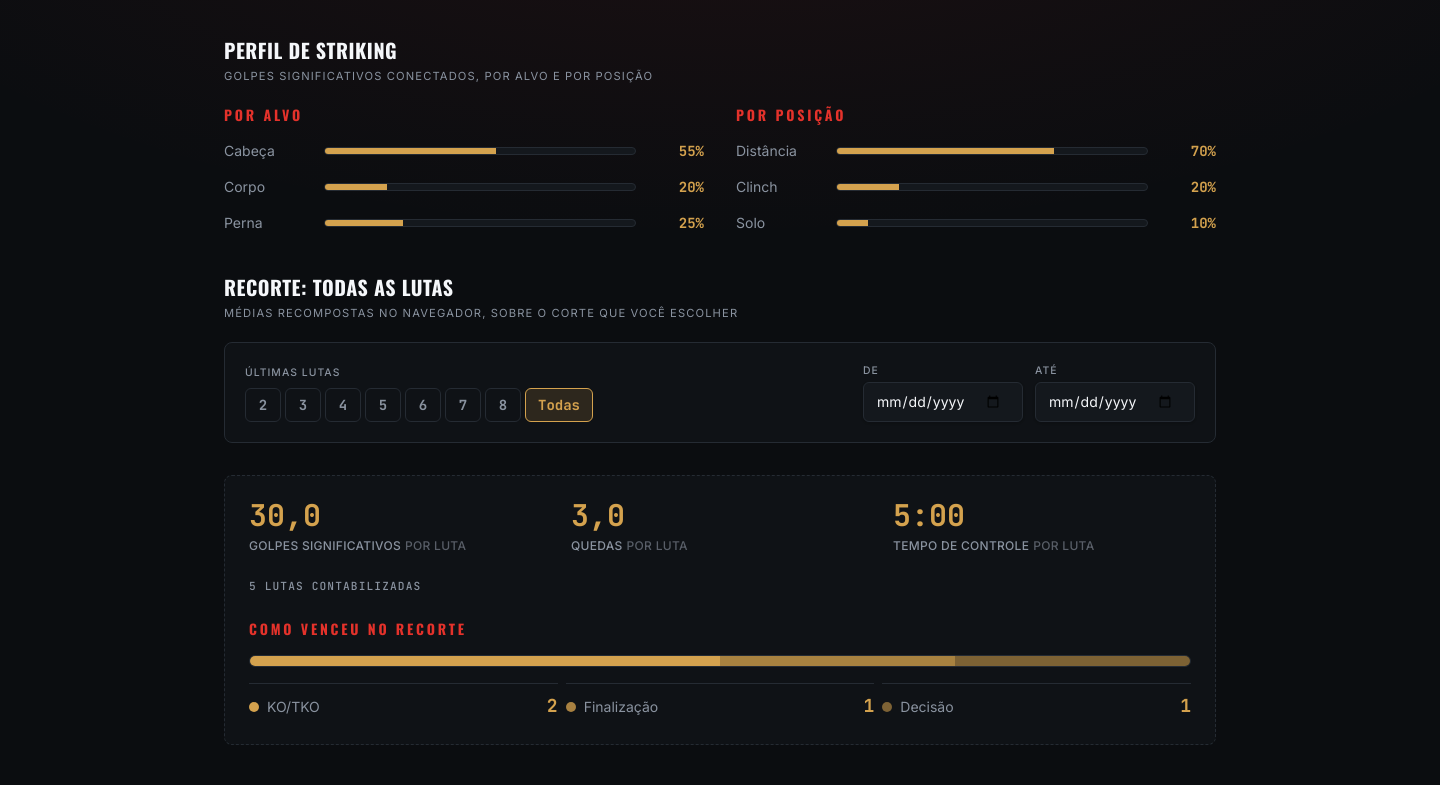
Scenario: FighterPage — recorte de últimas N lutas › recorta pelas últimas N lutas e desfaz o recorte em 'Todas'
The width and height of the screenshot is (1440, 785).
(page scrolled)
Expected: the text "30,0" is shown, [249,495,321,535]
Expected: the text "5 lutas contabilizadas" is shown, [249,579,421,593]
What coordinates should you click on to do the following:
click the button "3"
I would click on:
 (303, 405)
Its box is [285,388,321,422].
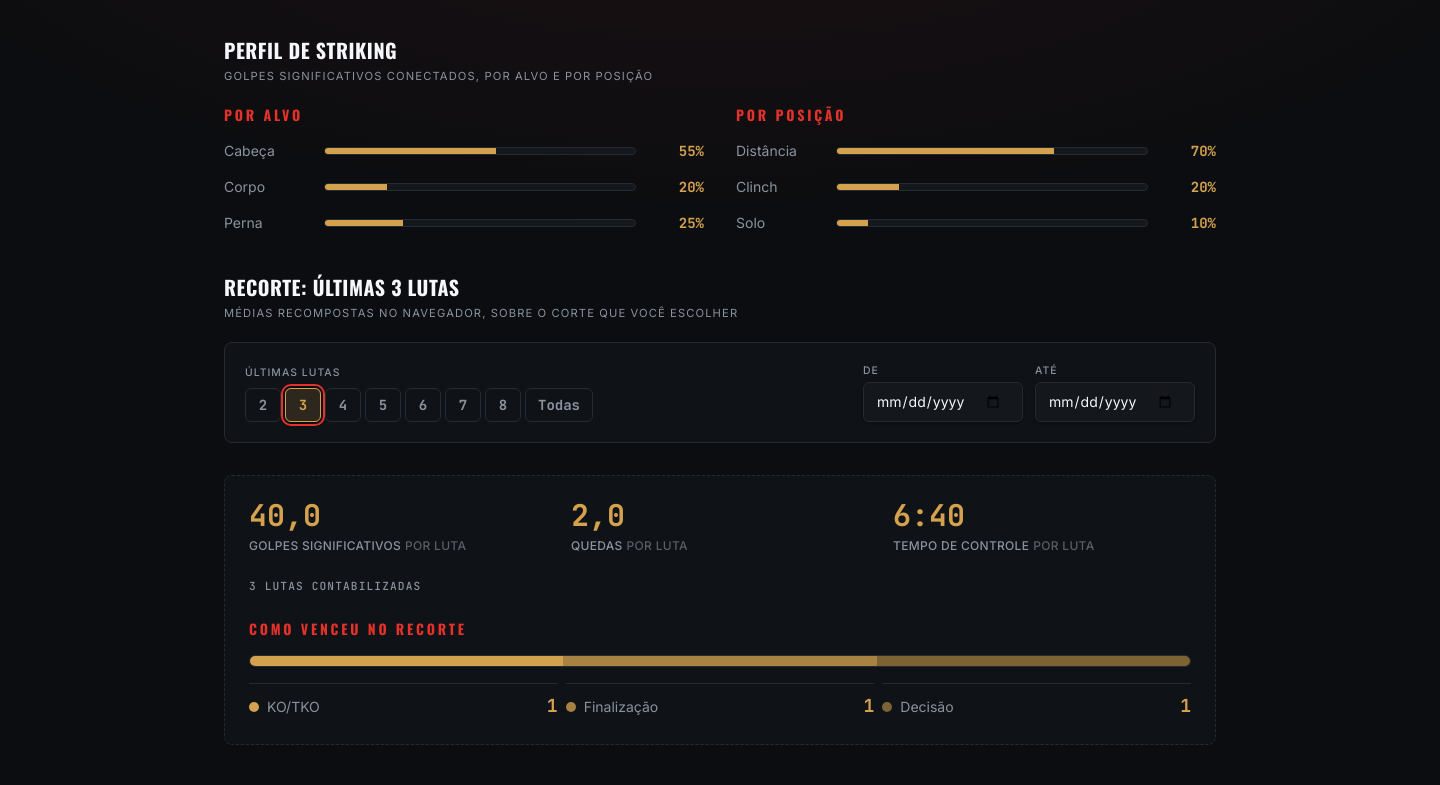
Expected: the text "40,0" is shown, [249,495,321,535]
What coordinates should you click on to do the following:
click the button "Todas"
I would click on:
 (559, 405)
Its box is [525,388,593,422].
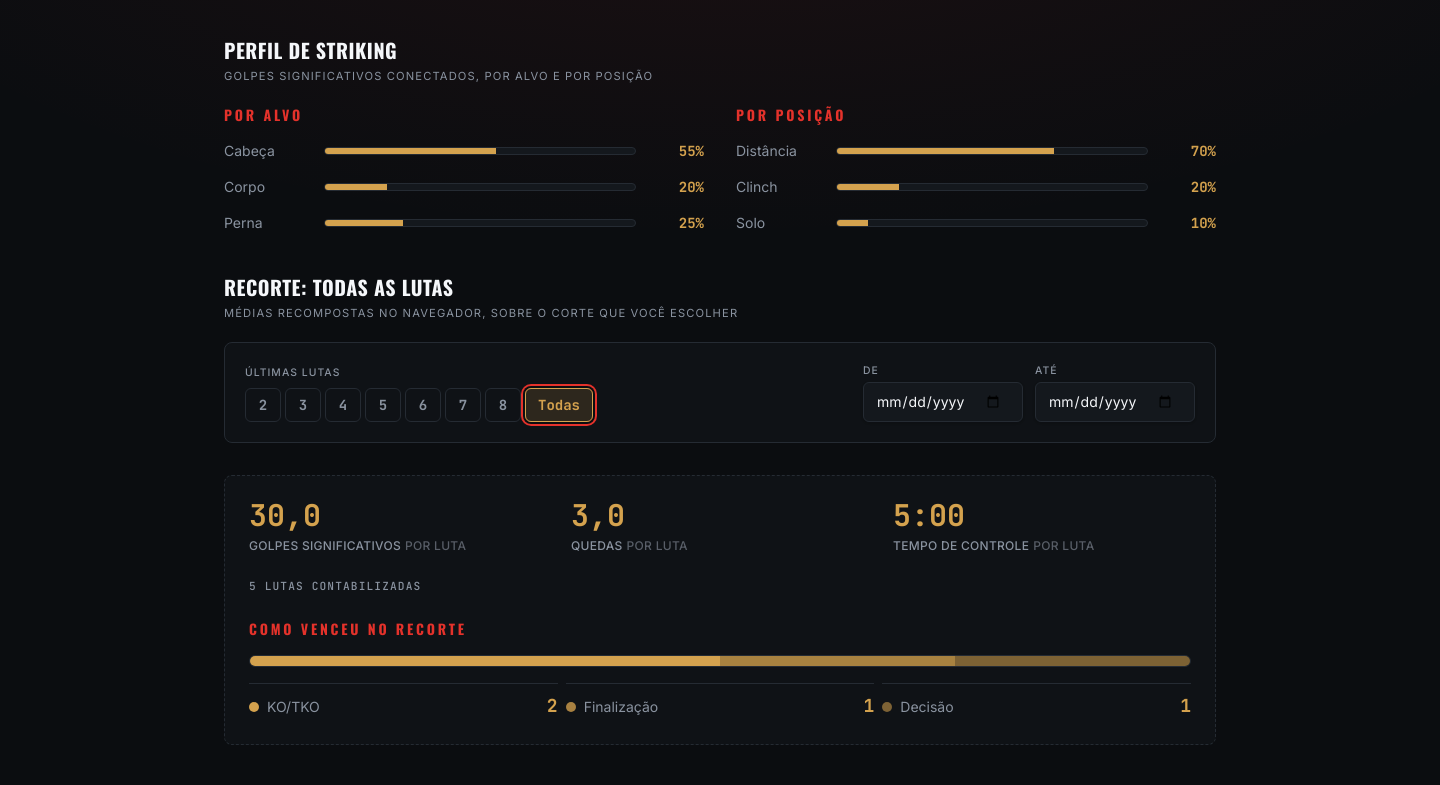
Expected: the text "30,0" is shown, [249,495,321,535]
Expected: the heading "Recorte: todas as lutas" is shown, [224,272,454,302]
